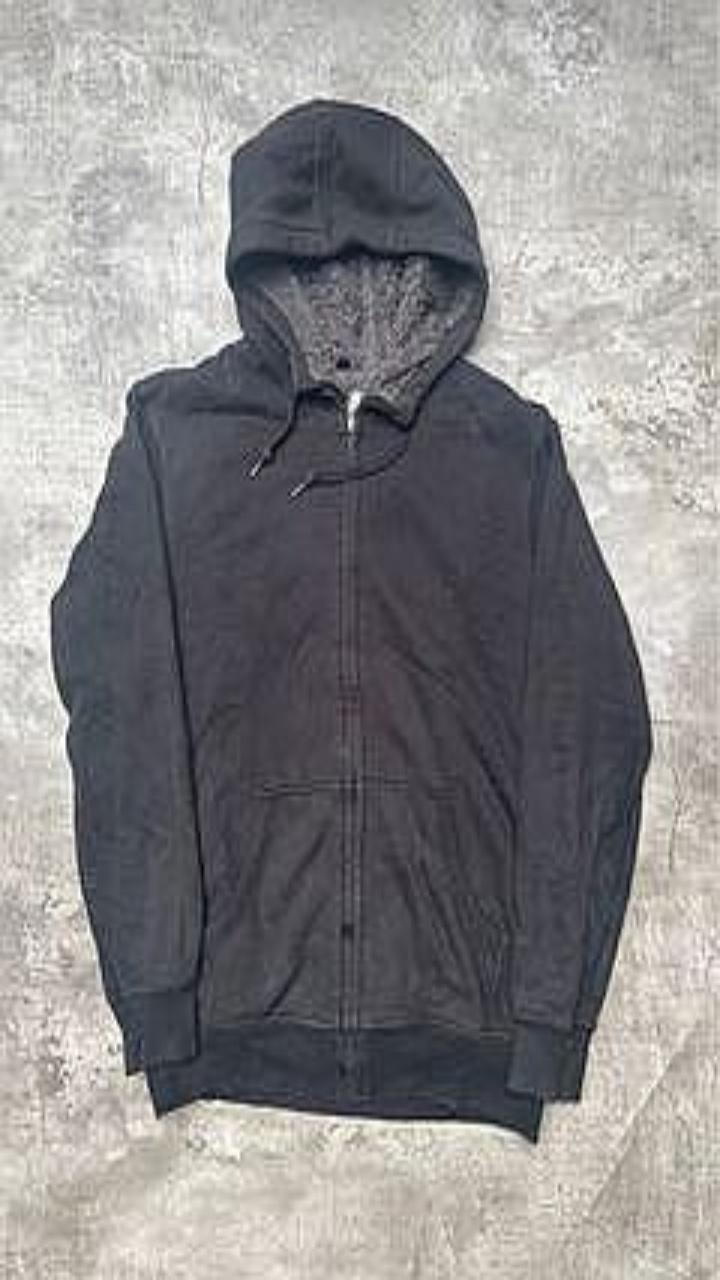Sports_Jacket: (50, 97, 652, 1141)
